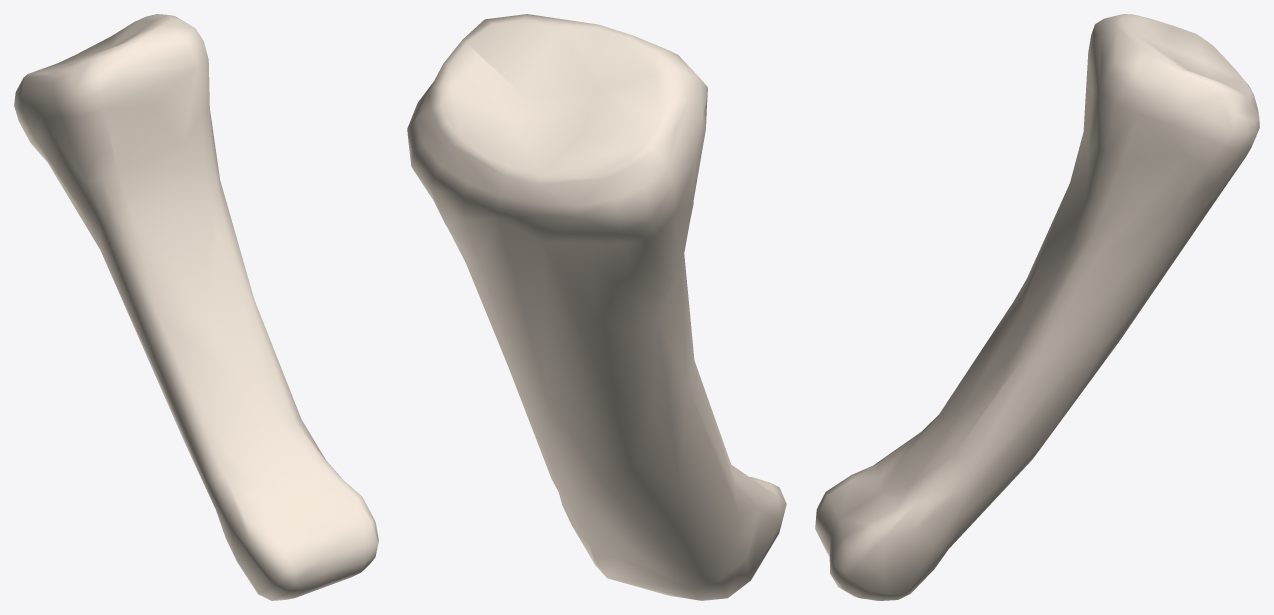
The model's file is left_digit_3_proximal.glb.
3 renders of one model, left to right at view 1: azimuth 30°, elevation 25°; view 2: azimuth 150°, elevation 25°; view 3: azimuth 270°, elevation 25°, orthographic. The views are drawn at different scales.
Parts seen in each view (by area): view 1: Proximal phalanx of 3rd finger.r; view 2: Proximal phalanx of 3rd finger.r; view 3: Proximal phalanx of 3rd finger.r.
Part boxes in pixels (bbox=[...]): Proximal phalanx of 3rd finger.r: bbox=[14, 14, 378, 600]; Proximal phalanx of 3rd finger.r: bbox=[407, 14, 786, 600]; Proximal phalanx of 3rd finger.r: bbox=[815, 14, 1259, 600].
Bounding box in the file's own units: 0.0108 × 0.0242 × 0.0185.
